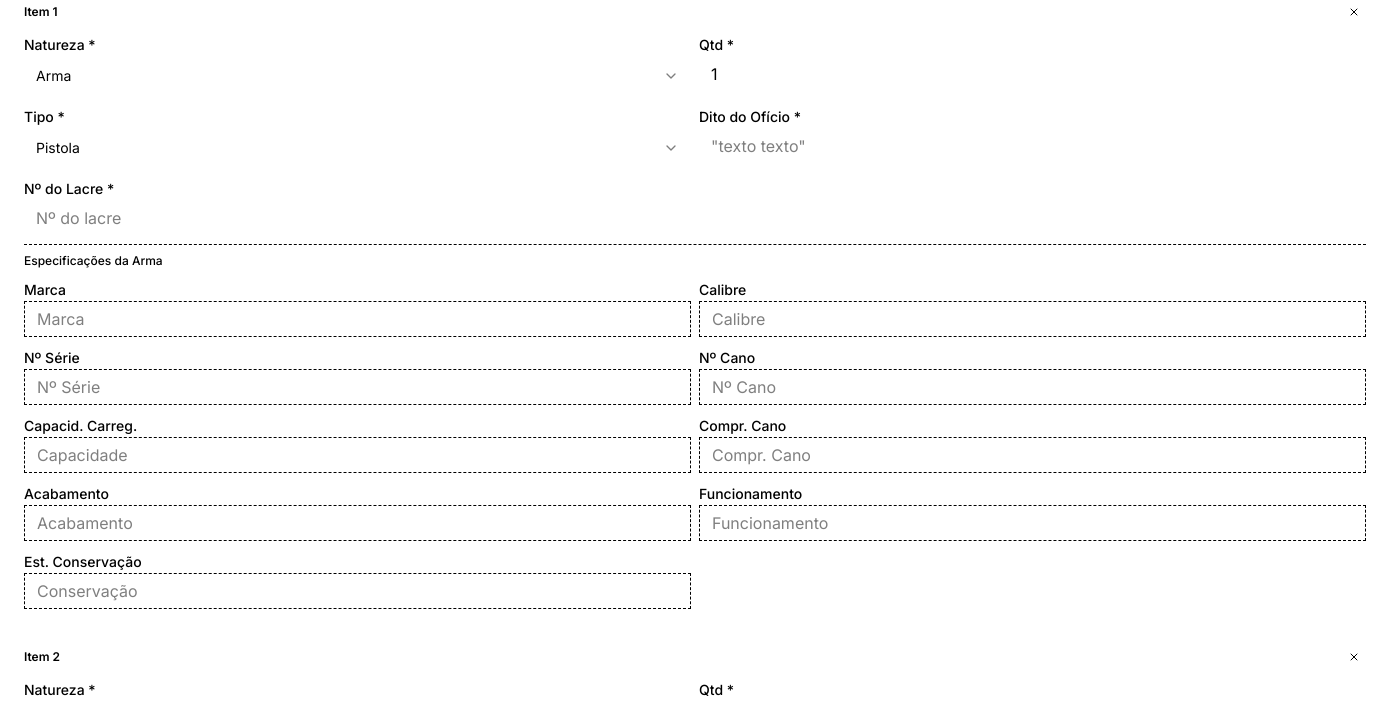
Scenario: seções legadas da REP B602 › normaliza quantidades digitadas nos editores preservados
Step 1. Replace the text in the 1st number field with "123" → (1032, 74), box x1=699 y1=56 x2=1366 y2=92
(page scrolled)
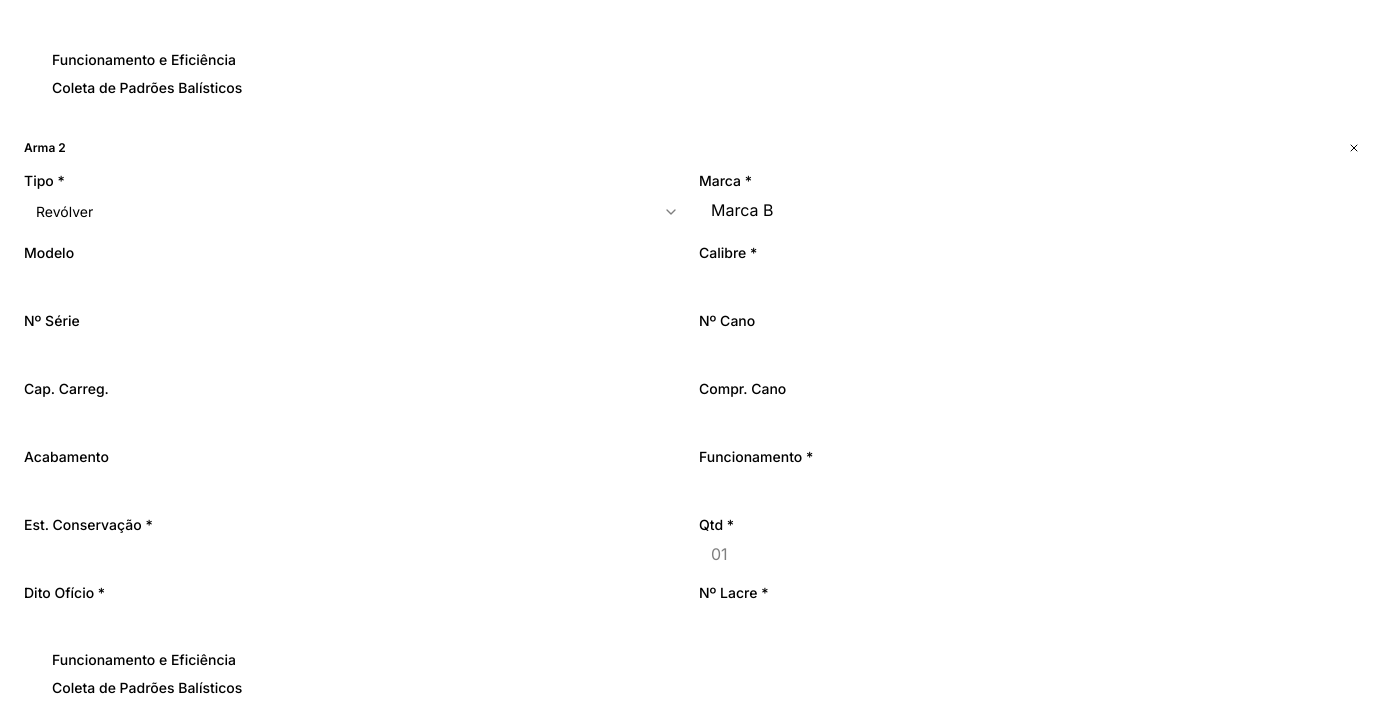
Step 2. Type "987" into the number field → (1032, 554), box x1=699 y1=536 x2=1366 y2=572
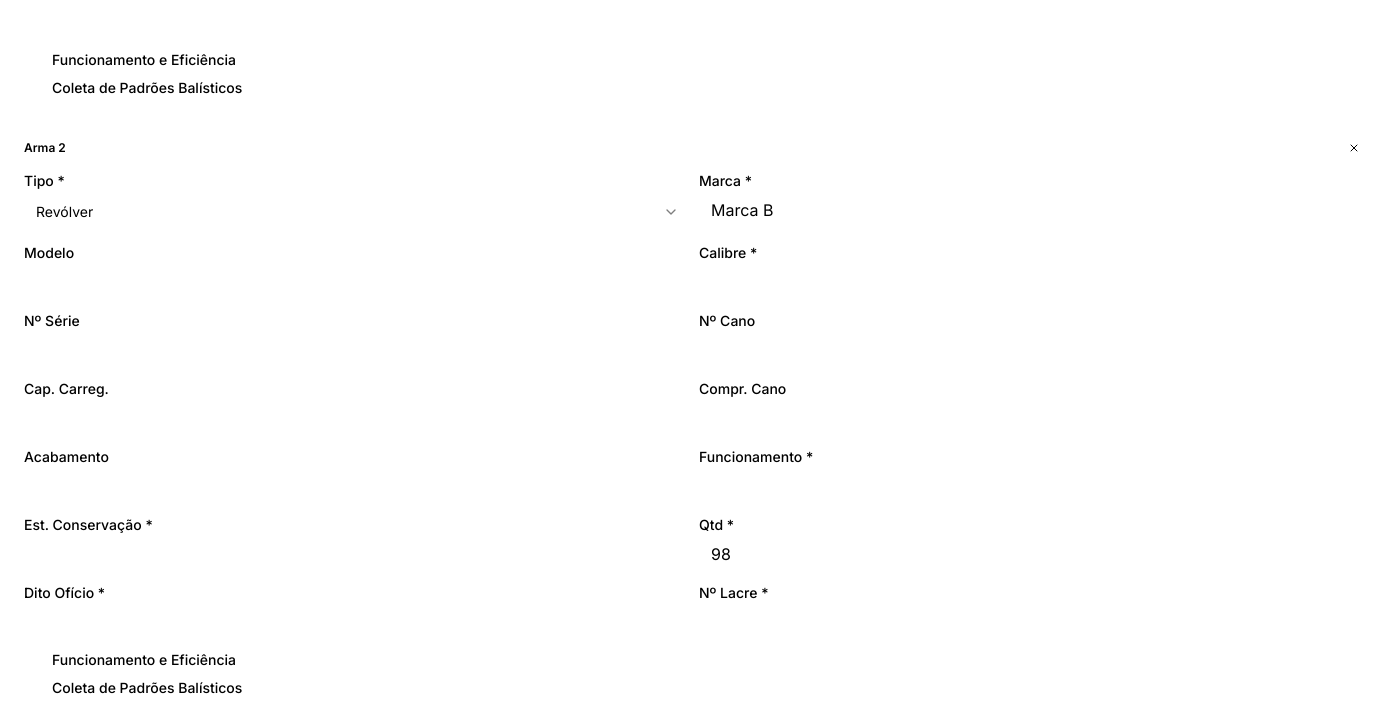
Now the number field holds "98", box x1=699 y1=536 x2=1366 y2=572
